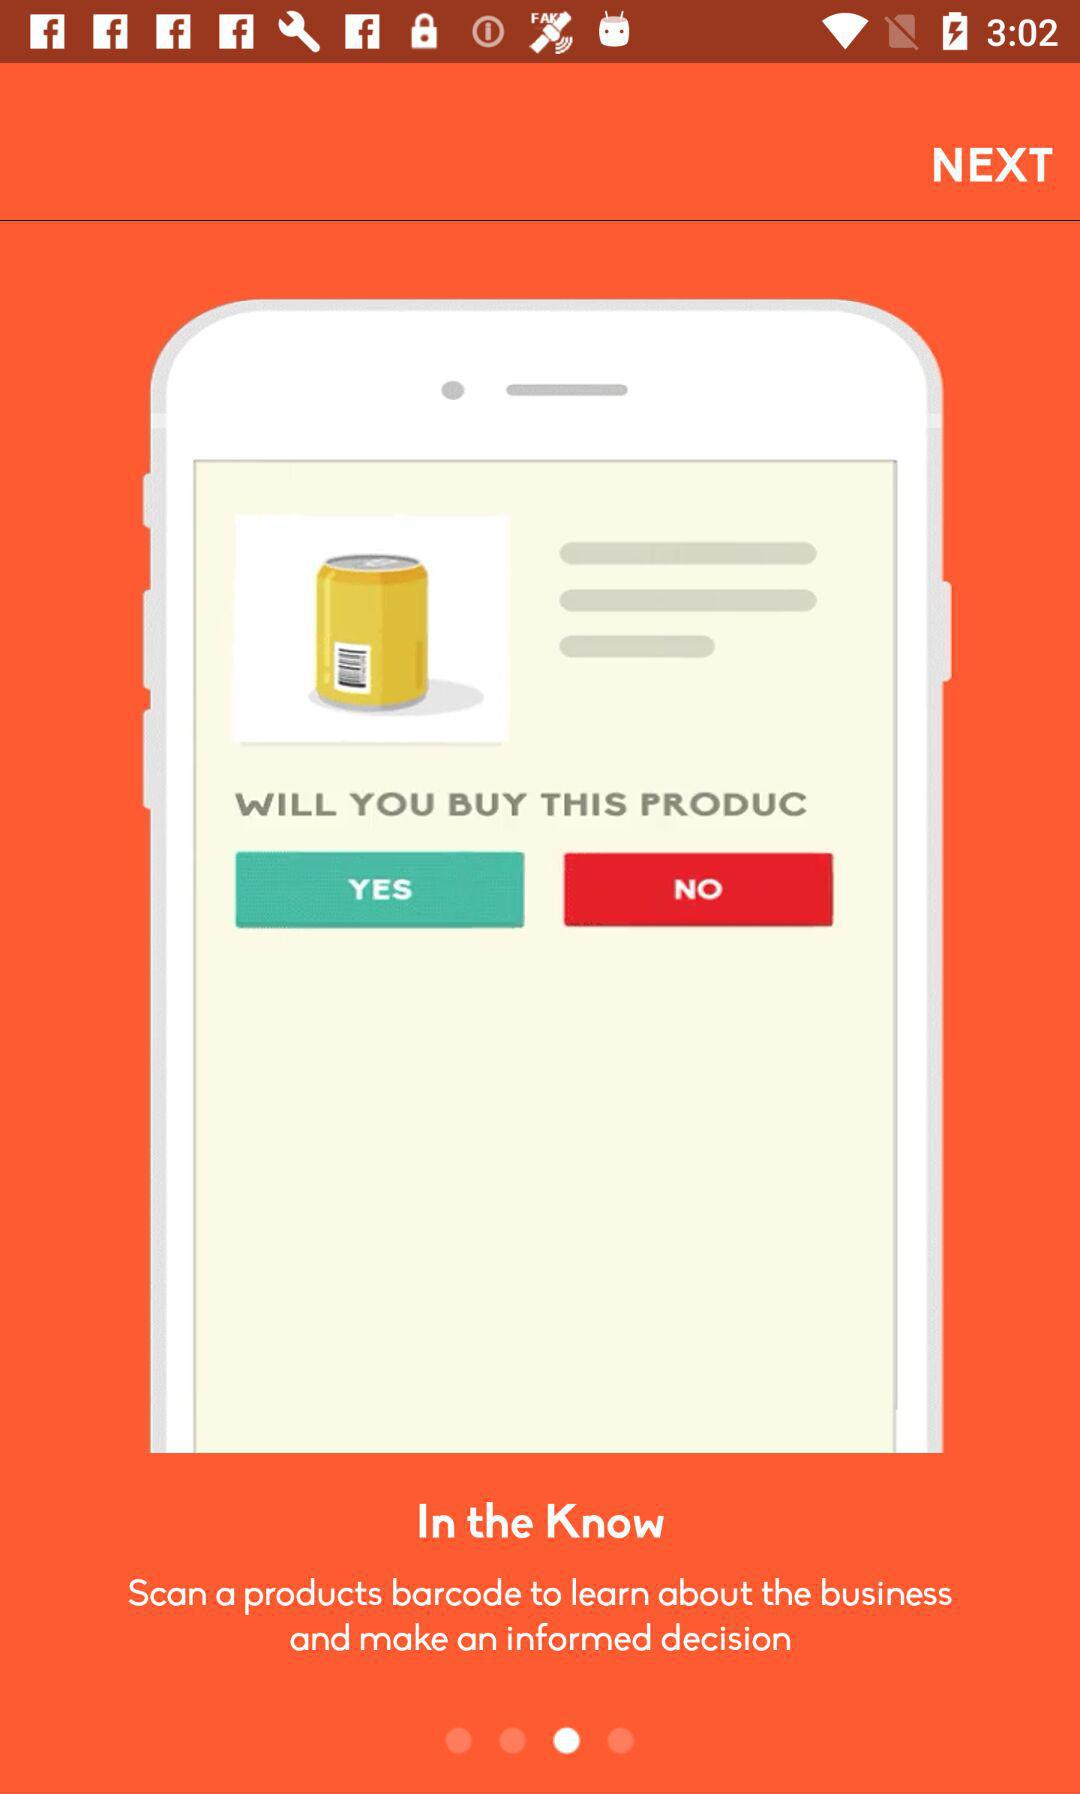Image: (142, 299, 952, 1454)
PageIndicator: (445, 1725, 637, 1757)
Text: (128, 1577, 953, 1656), (418, 1501, 665, 1542), (933, 147, 1054, 185)
UpperTaskBar: (1, 1, 1080, 64)
